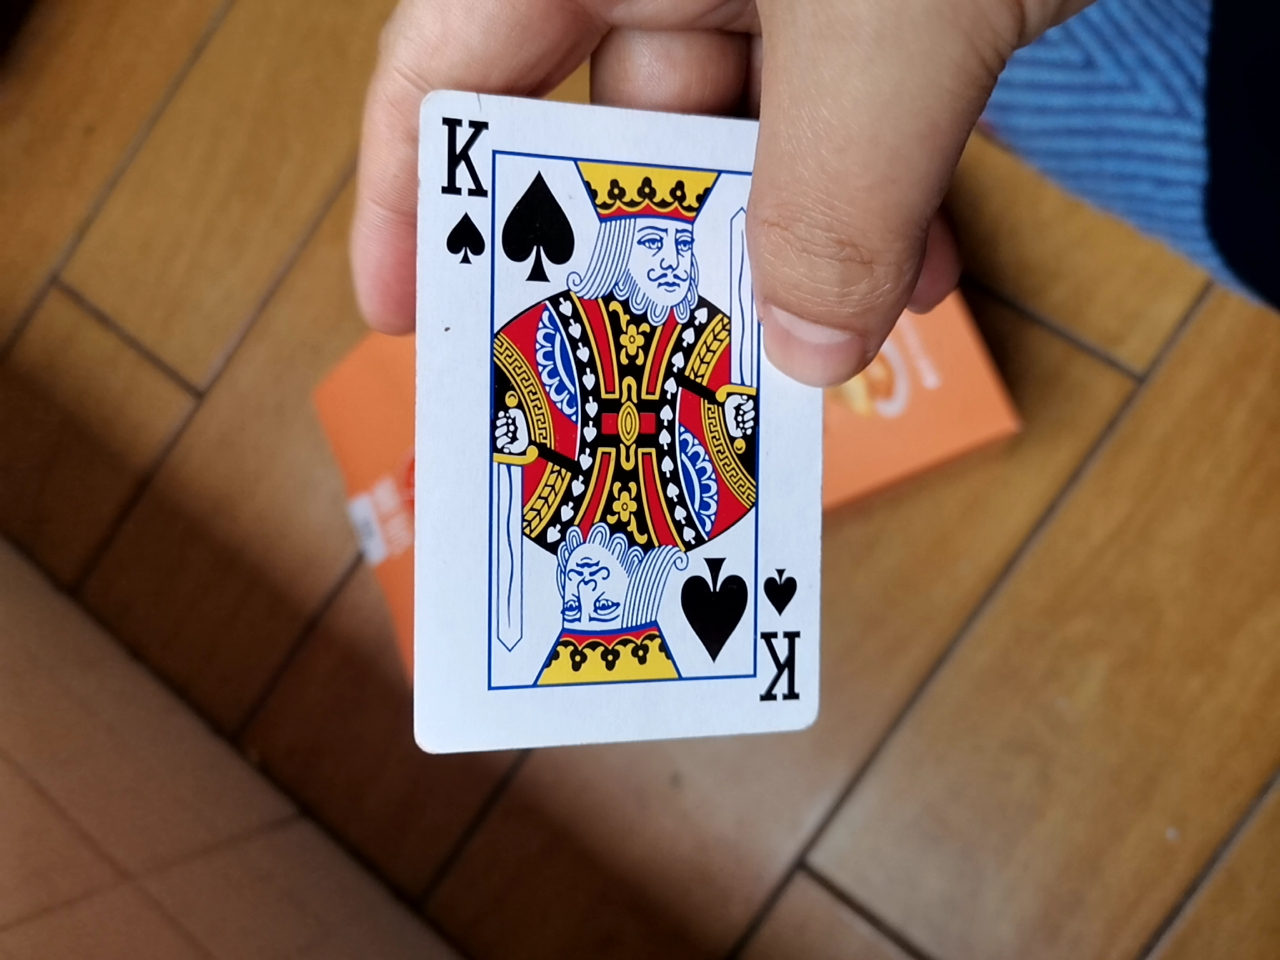ht k: (410, 85, 842, 784)
